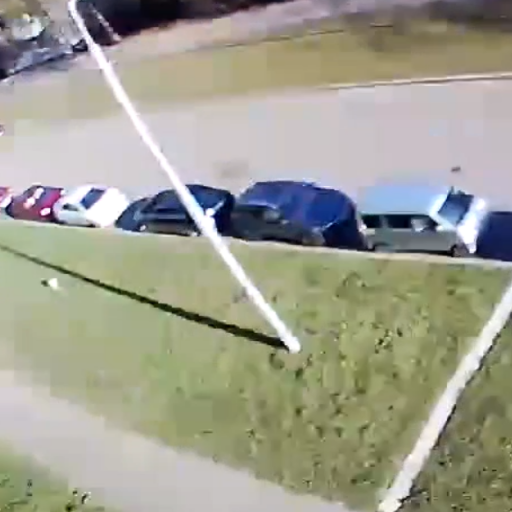Car: (356, 180, 488, 256), (232, 177, 360, 247), (134, 186, 227, 233), (54, 182, 122, 229), (5, 179, 64, 218)
